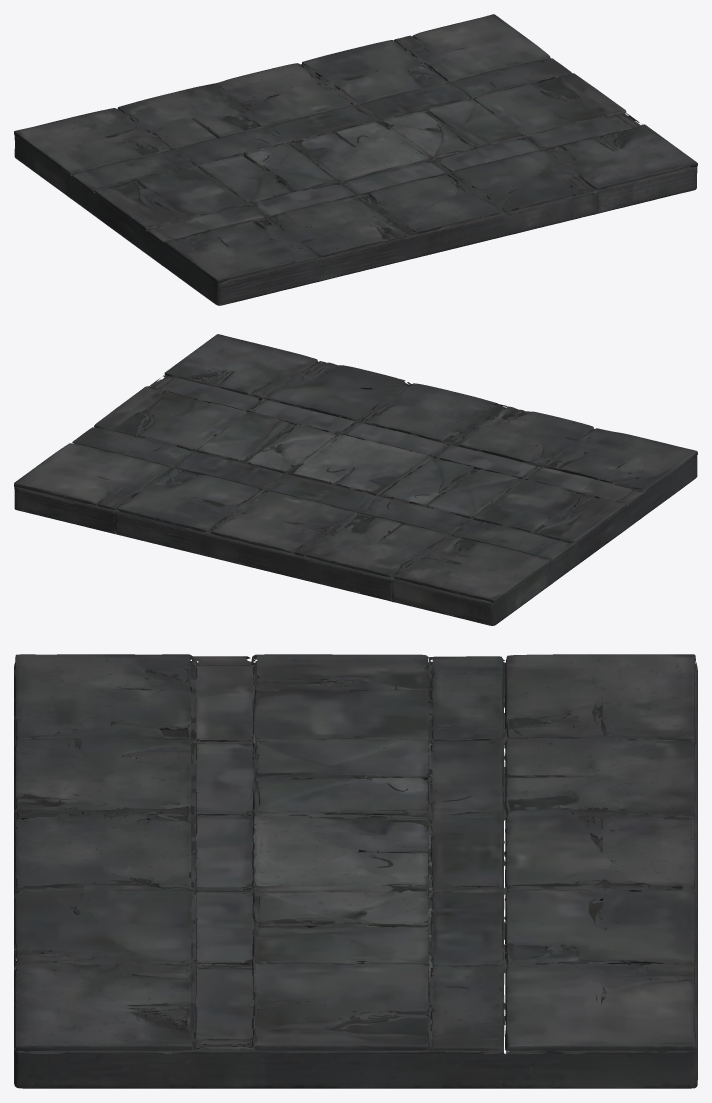
File: bathroom_floor.raw.glb
3 renders of one model, top to bottom at view 1: azimuth 30°, elevation 25°; view 2: azimuth 150°, elevation 25°; view 3: azimuth 270°, elevation 25°, orthographic. The views are drawn at different scales.
Parts seen in each view (by area): view 1: world; view 2: world; view 3: world.
Part boxes in pixels (bbox=[...]): world: bbox=[14, 14, 697, 305]; world: bbox=[14, 334, 697, 625]; world: bbox=[14, 654, 697, 1088].
Size of the model in its own units: 1 by 0.0554 by 0.7386.
1 material, 1 textured.
